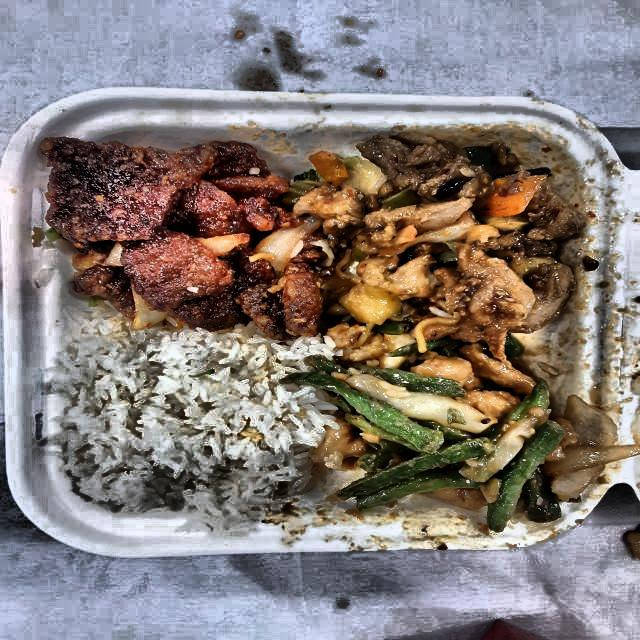Food: (296, 119, 592, 333), (38, 128, 318, 332), (51, 326, 322, 525), (326, 334, 572, 526)
